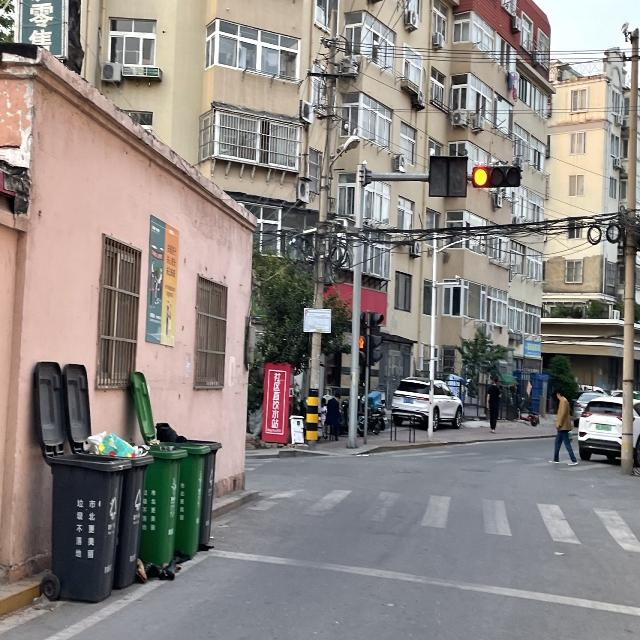garbage: (135, 556, 180, 579)
garbage_bin: (45, 452, 131, 602), (138, 442, 187, 566), (176, 442, 212, 553), (187, 439, 220, 543)
overflow: (76, 429, 151, 591)
